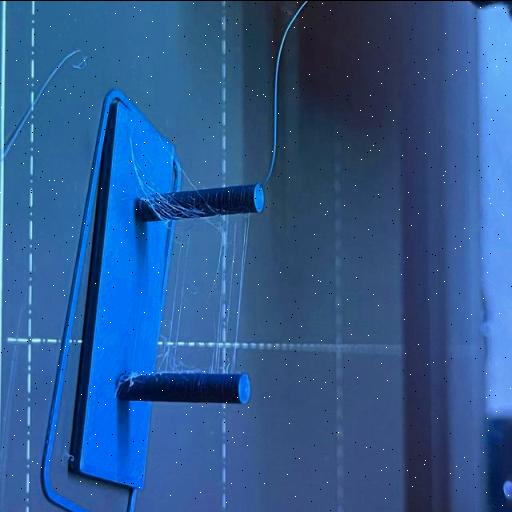stringing: (215, 197, 253, 383), (164, 204, 190, 376)
